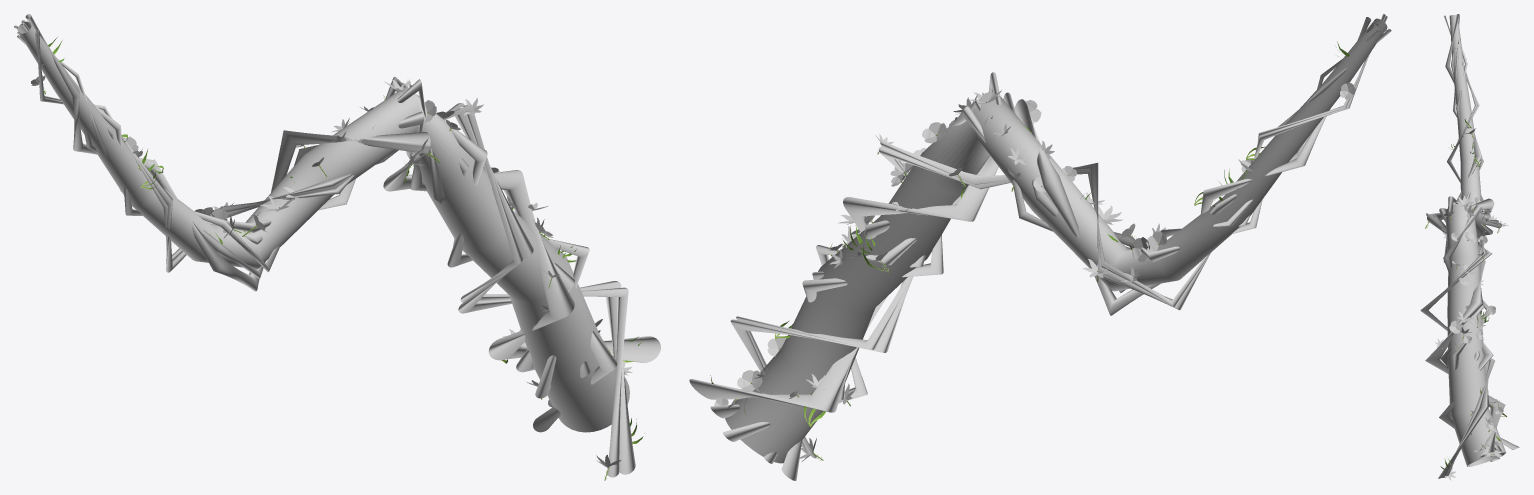
Rendered from vine_v2 3.fbx.
3 views of the same model, side by side, from view 1: azimuth 30°, elevation 25°; view 2: azimuth 150°, elevation 25°; view 3: azimuth 270°, elevation 25° (orthographic). The views are drawn at different scales.
Parts seen in each view (by area): view 1: BezierCurve.005; view 2: BezierCurve.005; view 3: BezierCurve.005.
Boxes of the visible parts, x1=… form: BezierCurve.005: x1=14, y1=14, x2=660, y2=480; BezierCurve.005: x1=689, y1=14, x2=1391, y2=480; BezierCurve.005: x1=1420, y1=14, x2=1519, y2=480.
Bounding box in the file's own units: 930 × 784 × 223.
